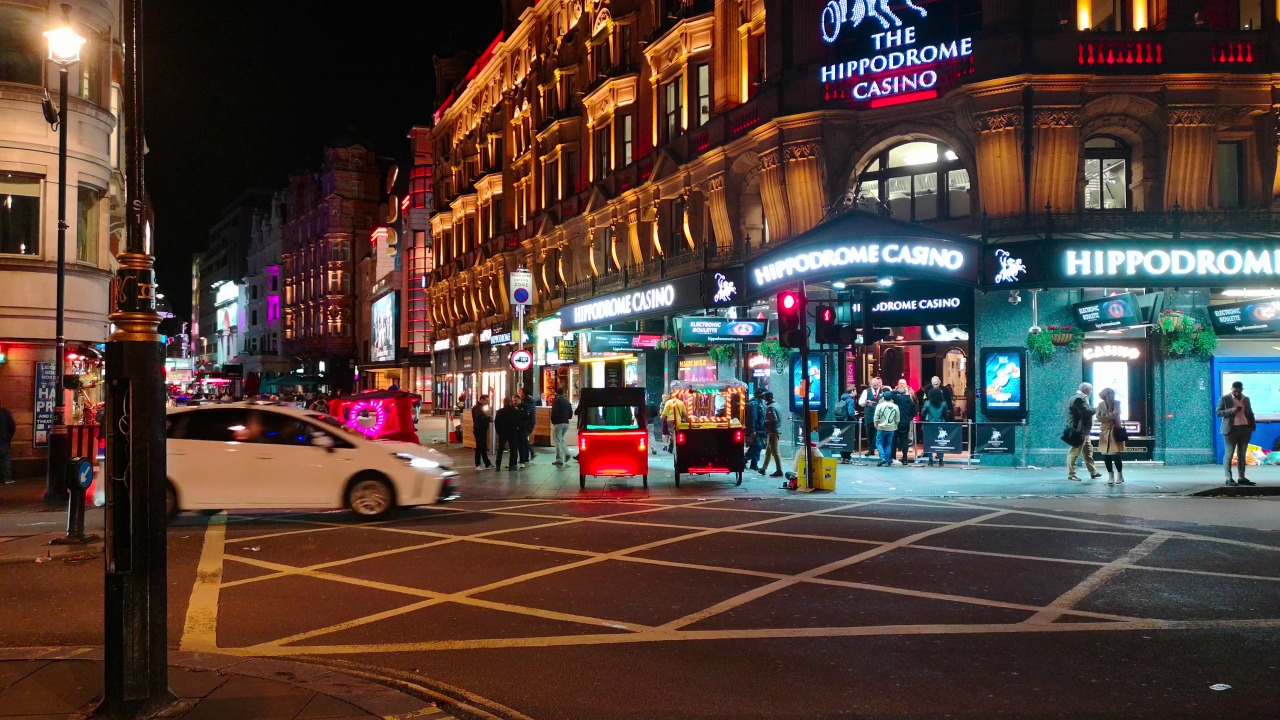car: (124, 406, 471, 521), (573, 380, 647, 493), (682, 393, 740, 491), (342, 385, 424, 433)
person: (1213, 382, 1264, 483), (1098, 388, 1138, 496), (1069, 375, 1094, 483), (927, 387, 952, 473), (836, 382, 858, 468), (789, 439, 824, 490), (474, 396, 496, 473), (549, 387, 568, 470), (765, 392, 783, 478), (877, 391, 896, 463), (525, 388, 540, 467), (497, 398, 511, 465), (1, 400, 10, 503), (644, 393, 657, 464), (901, 392, 912, 469), (511, 395, 526, 451), (754, 390, 761, 476), (864, 379, 876, 428), (925, 374, 949, 389), (894, 372, 909, 390)
